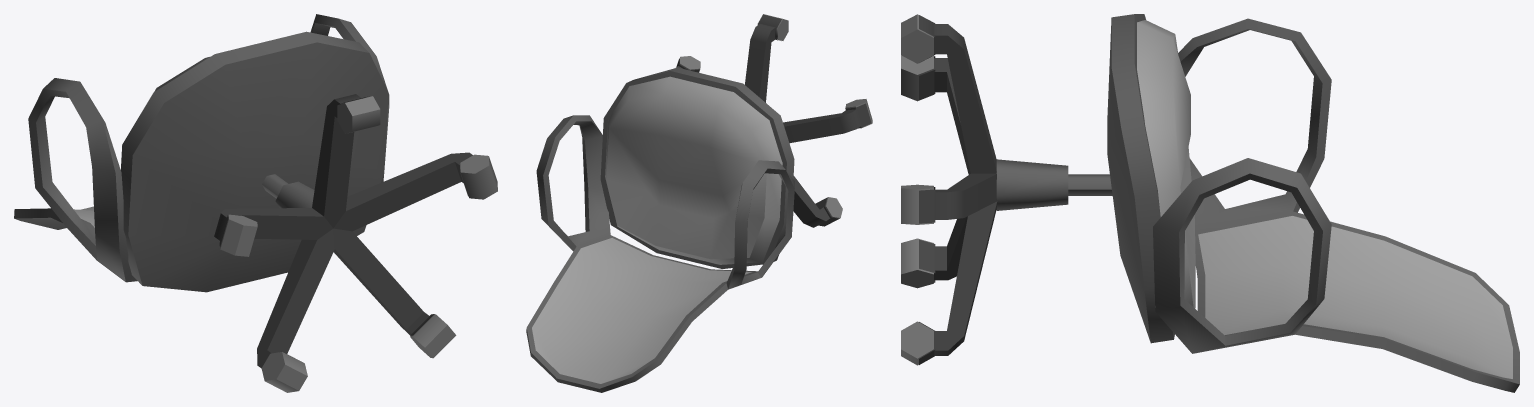
Rendered from studio-chair.glb.
The picture shows the model from 3 angles, left to right: view 1: azimuth 30°, elevation 25°; view 2: azimuth 150°, elevation 25°; view 3: azimuth 270°, elevation 25°; orthographic projection. The views are drawn at different scales.
Visible parts, largest first — view 1: office_chair_012; view 2: office_chair_012; view 3: office_chair_012.
Part boxes in pixels (box(x1,y1,x2,y2)): office_chair_012: box(14, 14, 497, 392); office_chair_012: box(526, 14, 872, 392); office_chair_012: box(901, 14, 1519, 392).
Size of the model in its own units: 0.654 by 0.6748 by 1.07.
Materials: 1 (1 with a texture image).
